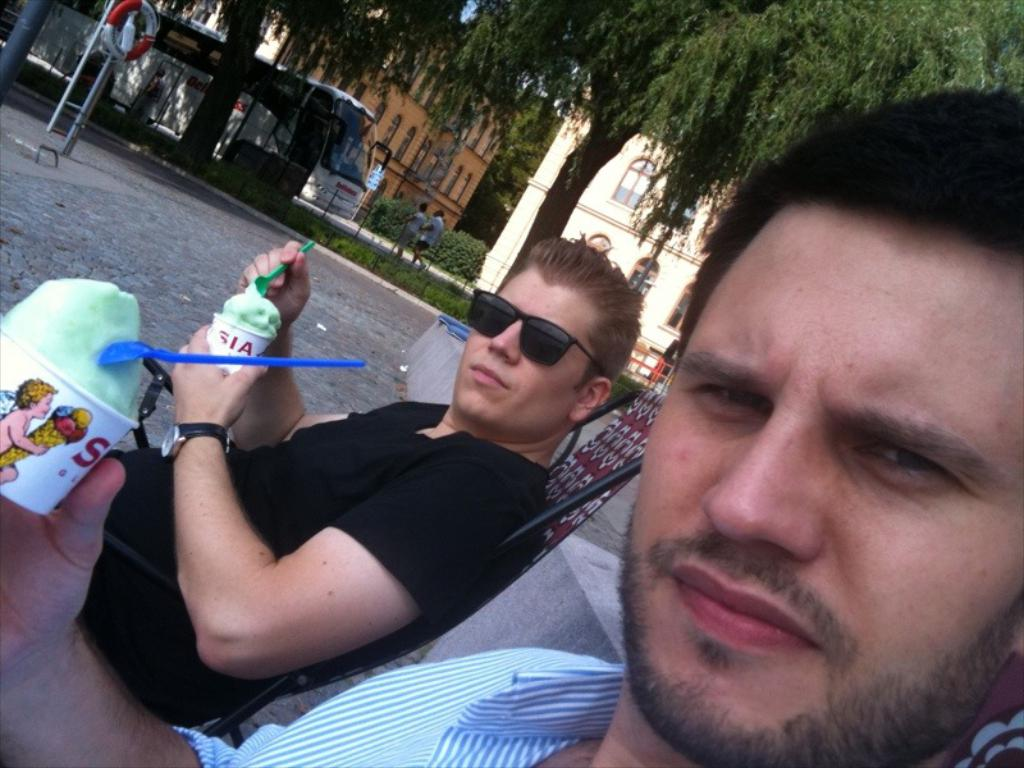Human_hand: (0, 454, 131, 677), (170, 321, 268, 424), (234, 239, 314, 330)
